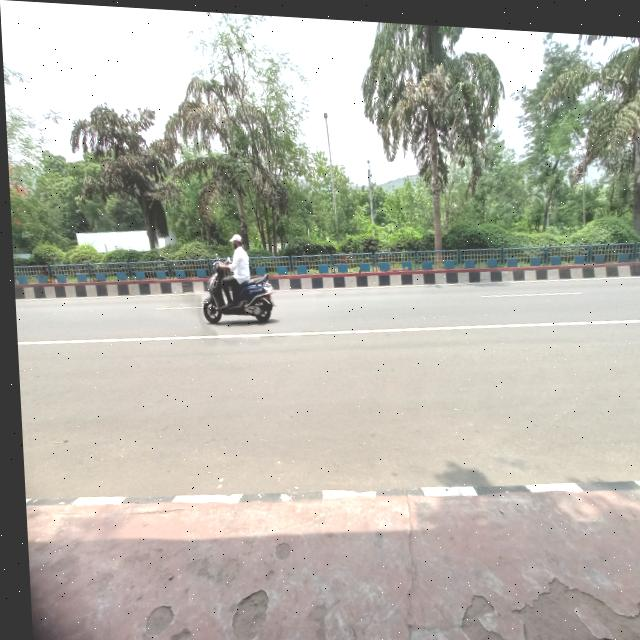bike: (192, 253, 284, 330)
